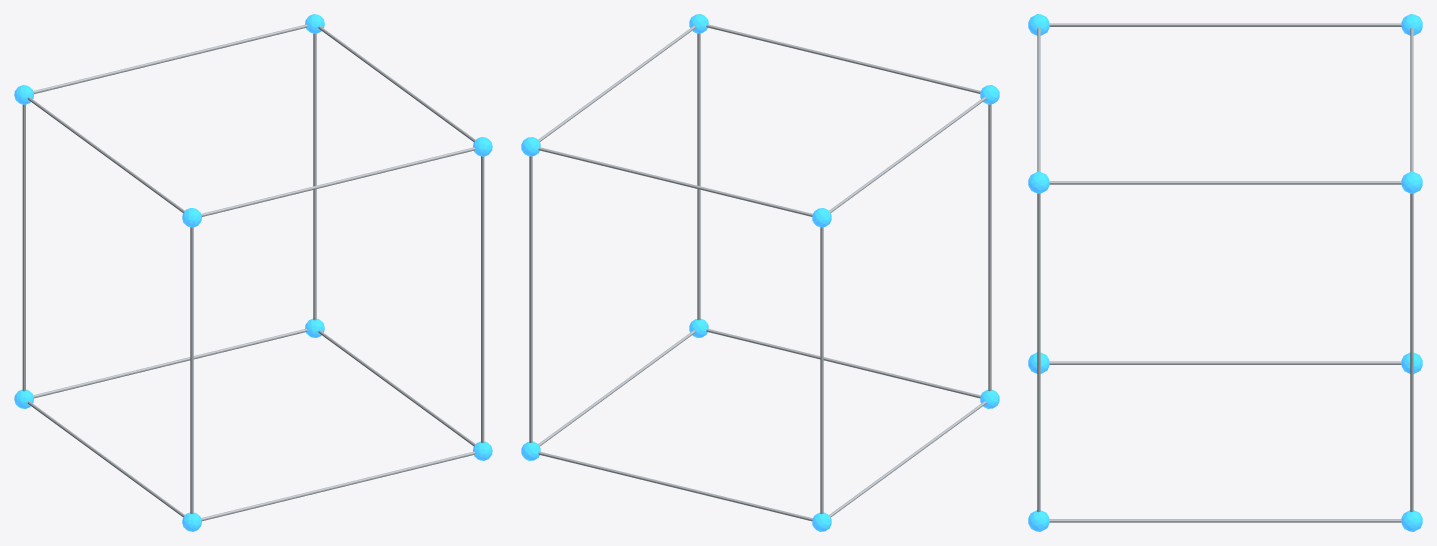
The model's file is pf-bounding-box-cage-57c3d1.glb.
3 renders of one model, left to right at view 1: azimuth 30°, elevation 25°; view 2: azimuth 150°, elevation 25°; view 3: azimuth 270°, elevation 25°, orthographic. The views are drawn at different scales.
Visible parts, largest first — view 1: cage-upper, handles-upper, handles-floor; view 2: cage-upper, handles-upper, handles-floor; view 3: cage-upper, handles-upper, handles-floor.
Part boxes in pixels (x1,y1,x2,y2): cage-upper: (22,24,484,521); handles-upper: (14,14,492,227); handles-floor: (14,318,492,531); cage-upper: (529,24,991,521); handles-upper: (521,14,999,227); handles-floor: (521,318,999,531); cage-upper: (1037,23,1413,522); handles-upper: (1028,14,1422,193); handles-floor: (1028,352,1422,531).
Size of the model in its own units: 1.06 by 1.06 by 1.06.
